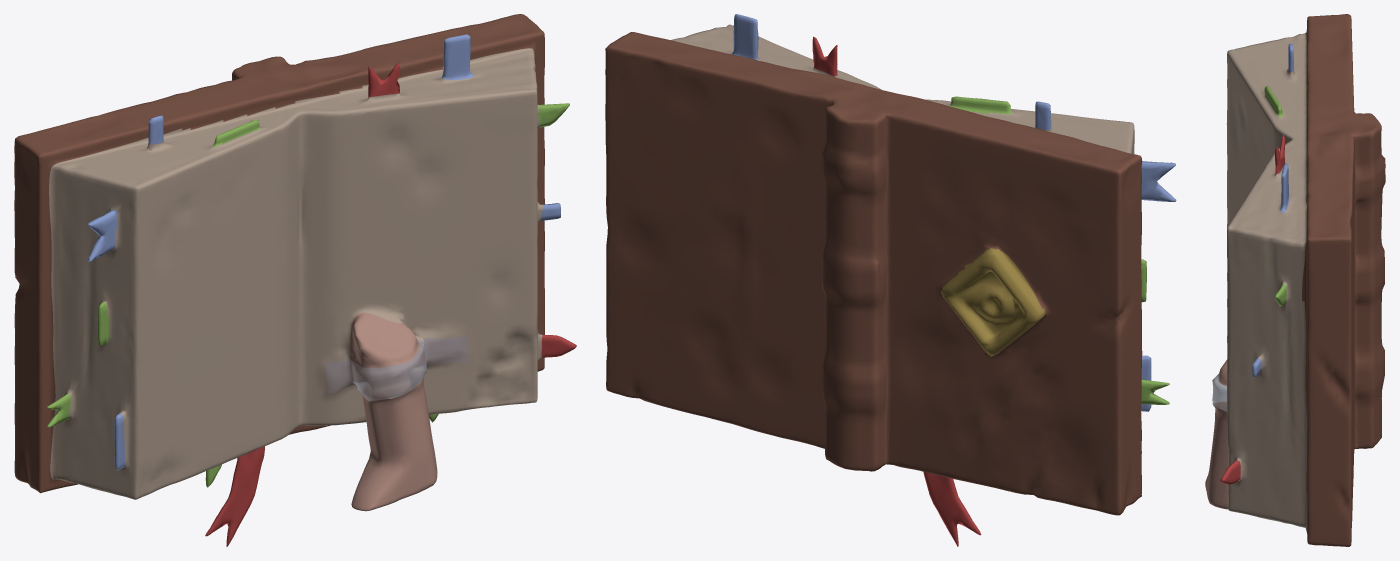
File: LIBRO_UV.fbx
The picture shows the model from 3 angles, left to right: view 1: azimuth 30°, elevation 25°; view 2: azimuth 150°, elevation 25°; view 3: azimuth 270°, elevation 25°; orthographic projection. The views are drawn at different scales.
Parts seen in each view (by area): view 1: Libro_Low_Poly; view 2: Libro_Low_Poly; view 3: Libro_Low_Poly.
Part boxes in pixels (x1=…): Libro_Low_Poly: x1=14, y1=14, x2=576, y2=546; Libro_Low_Poly: x1=605, y1=14, x2=1176, y2=546; Libro_Low_Poly: x1=1205, y1=14, x2=1385, y2=546.
Bounding box in the file's own units: 0.7821 × 0.6638 × 0.2577.
